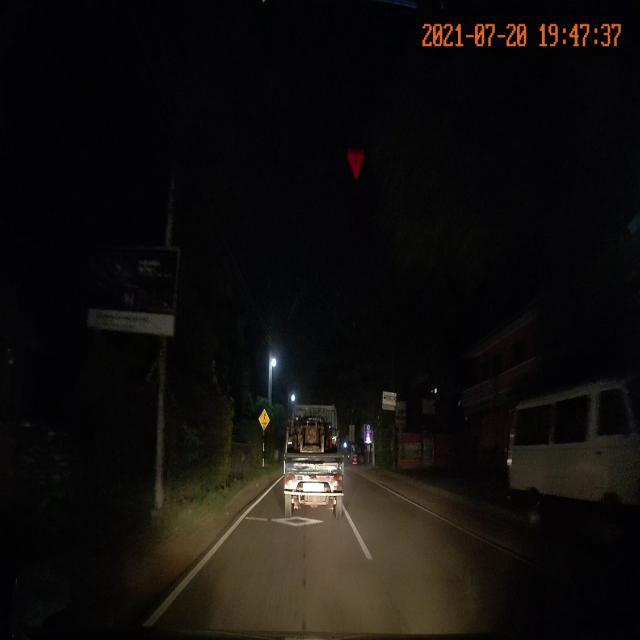diamond: (213, 509, 374, 558)
